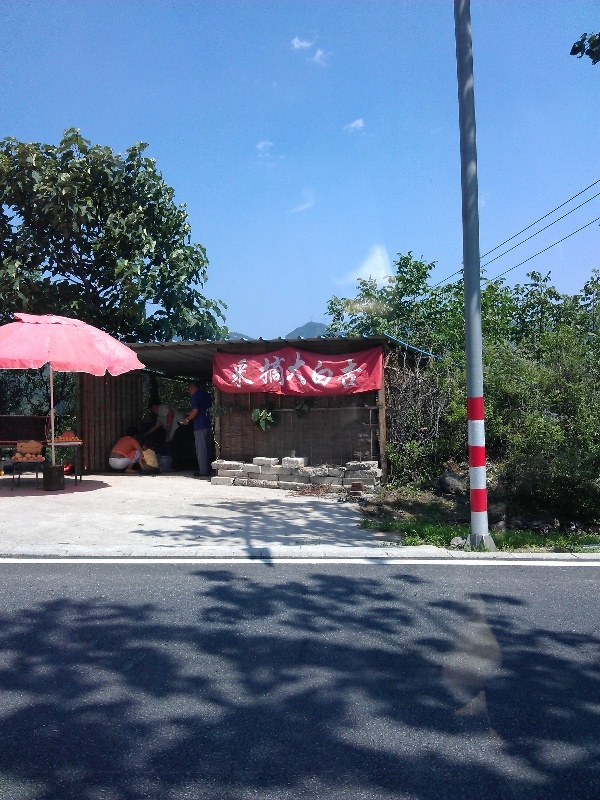text: (241, 351, 256, 390), (257, 351, 272, 390), (273, 351, 288, 390), (289, 351, 304, 390), (305, 351, 320, 390), (321, 351, 336, 390), (337, 351, 352, 390), (230, 351, 240, 390), (353, 351, 363, 390)
